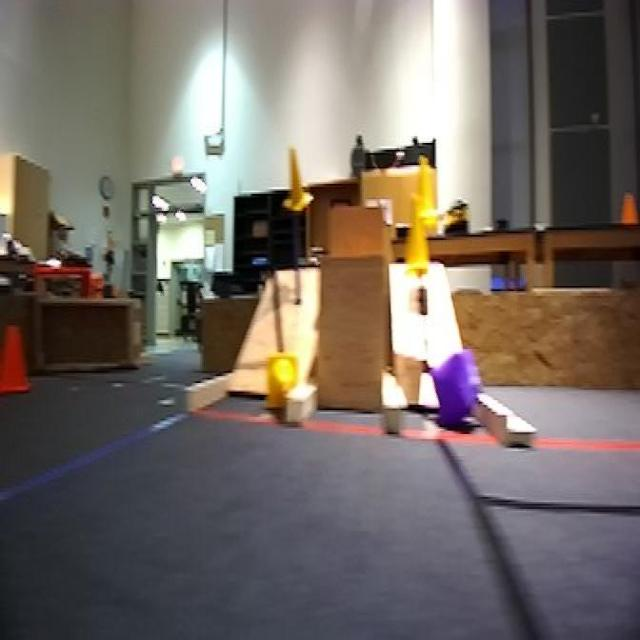frc_cone: (401, 199, 435, 278), (281, 145, 311, 216), (266, 352, 302, 410), (408, 155, 438, 221)
frc_cube: (428, 349, 478, 427)
